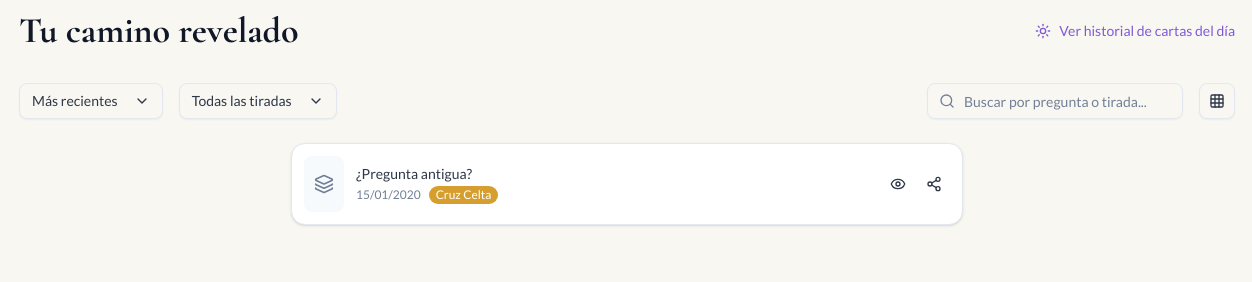
Test: HistorialPage › Date Filter Behavior › should filter readings by "Este mes" and show message if none match
The width and height of the screenshot is (1252, 282).
Open filter dropdown and select "Este mes"
Click the button with test id "date-filter": (91, 101) [19,83,163,119]
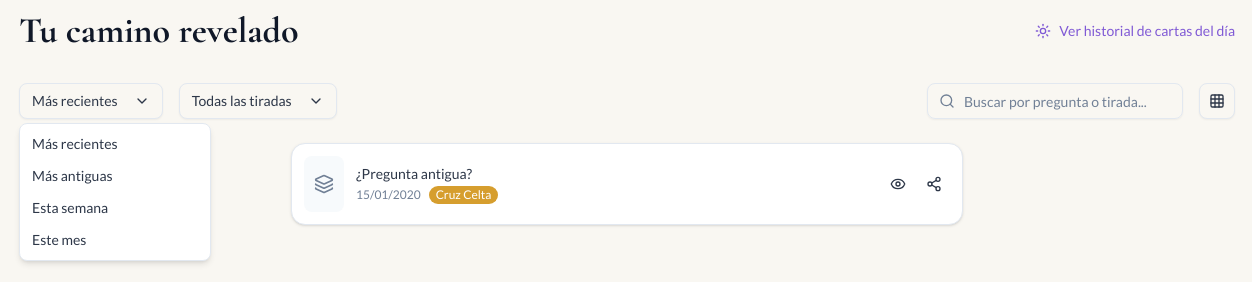
Expected: the menu item "Este mes" is shown
Click the menu item "Este mes": (59, 240) [32,231,86,248]
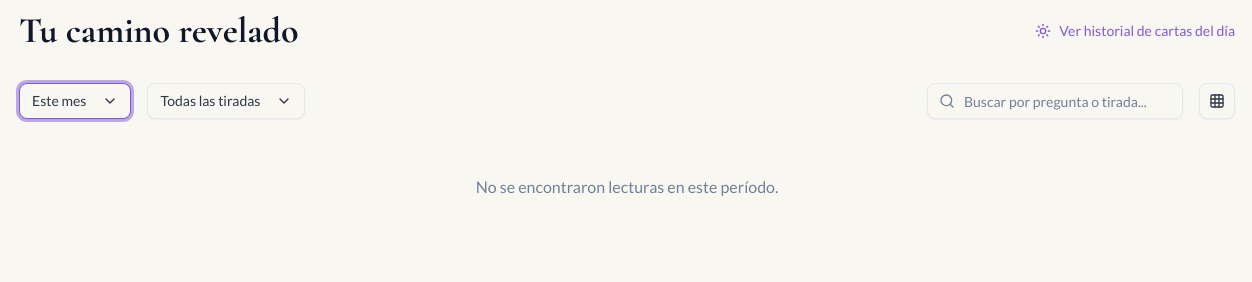
Expected: the text "No se encontraron lecturas en este período." is shown, [476,177,778,196]
